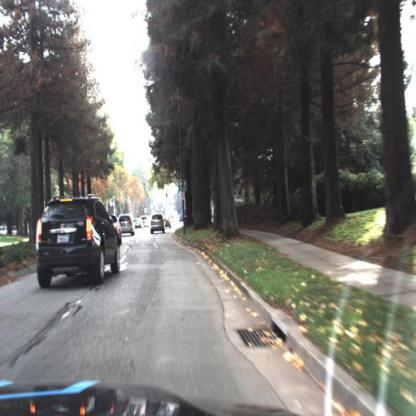car: (35, 194, 122, 290), (150, 211, 166, 235), (165, 212, 174, 233), (180, 213, 188, 226)
